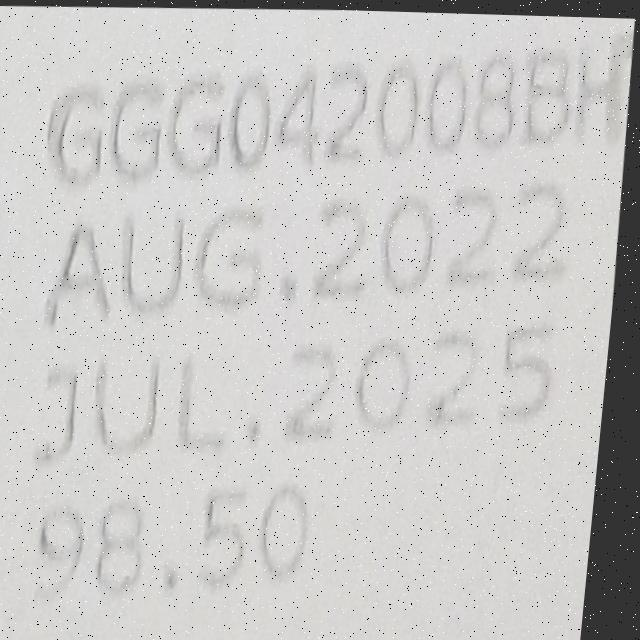sentence: (51, 30, 633, 182), (52, 172, 570, 323), (43, 320, 559, 461), (46, 484, 317, 597)
